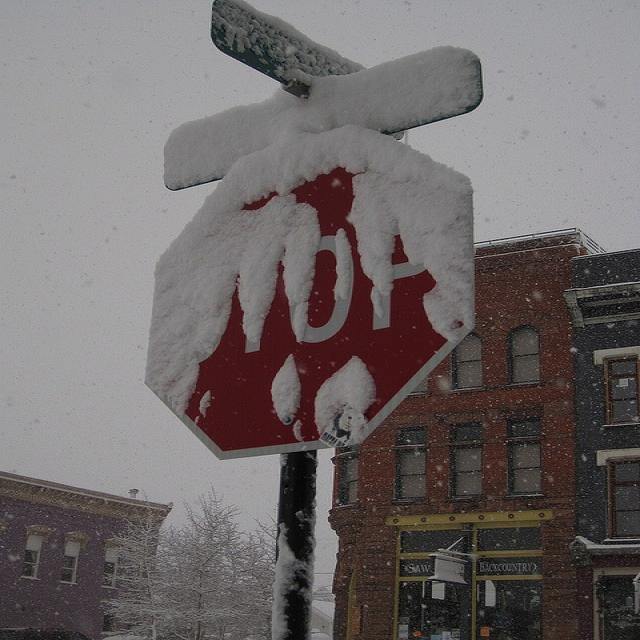pole: (252, 444, 324, 637)
